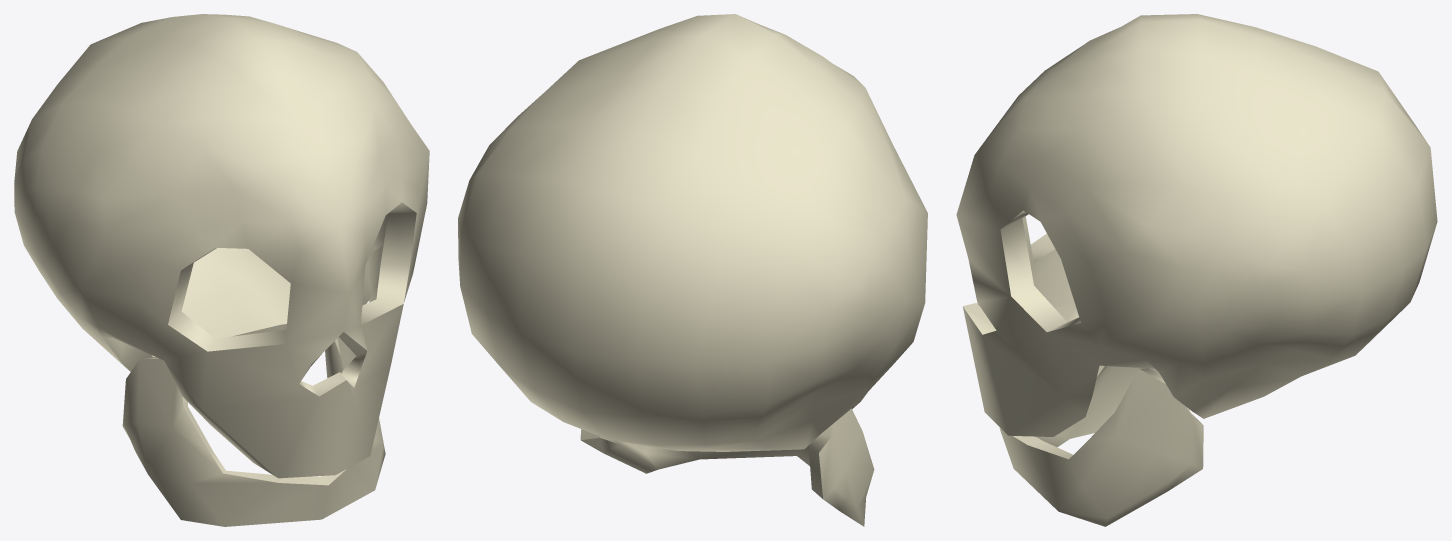
The model's file is skull_low.fbx.
3 renders of one model, left to right at view 1: azimuth 30°, elevation 25°; view 2: azimuth 150°, elevation 25°; view 3: azimuth 270°, elevation 25°, orthographic. The views are drawn at different scales.
Parts seen in each view (by area): view 1: skull_lod0; view 2: skull_lod0; view 3: skull_lod0.
Part boxes in pixels (x1,y1,x2,y2): skull_lod0: (14,14,429,526); skull_lod0: (458,14,927,526); skull_lod0: (956,14,1437,526).
Bounding box in the file's own units: 136 × 162 × 154.
